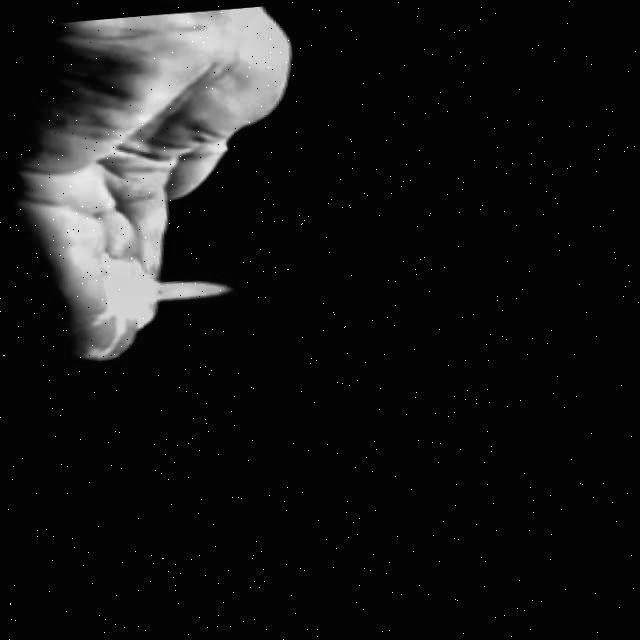Fire: (123, 271, 241, 310)
